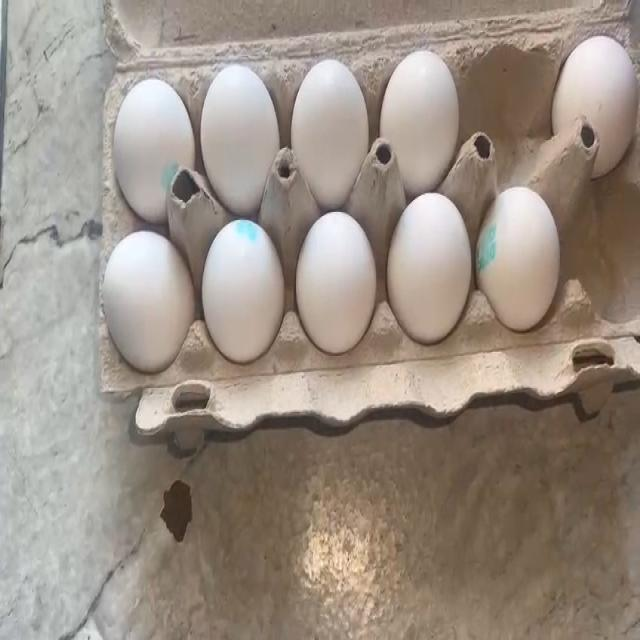Egg: (488, 199, 568, 334), (298, 227, 378, 347), (106, 243, 186, 361), (204, 230, 280, 350), (396, 215, 468, 325), (560, 44, 638, 138), (112, 88, 182, 184), (392, 54, 453, 164), (207, 81, 274, 178), (302, 66, 362, 164)
